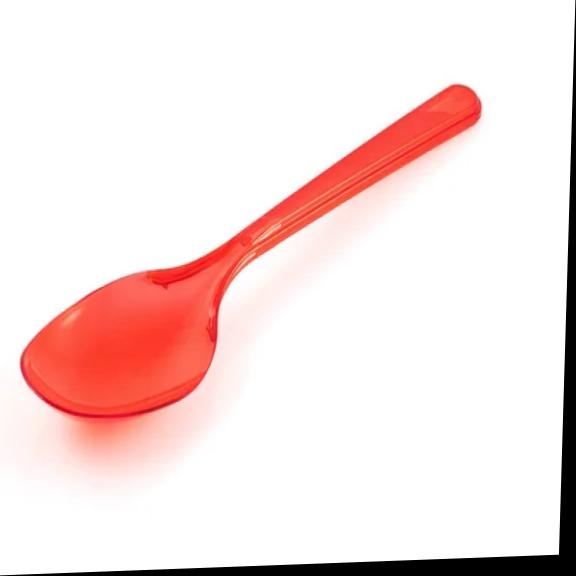Plastik: (21, 86, 480, 417)
